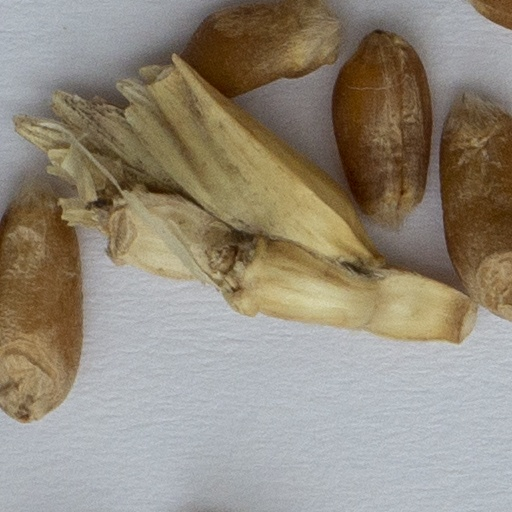Peel-poly: (16, 57, 471, 341)
